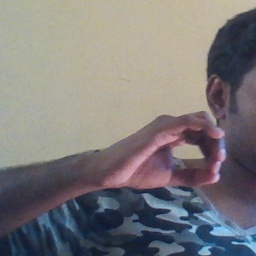O: (97, 107, 229, 192)
